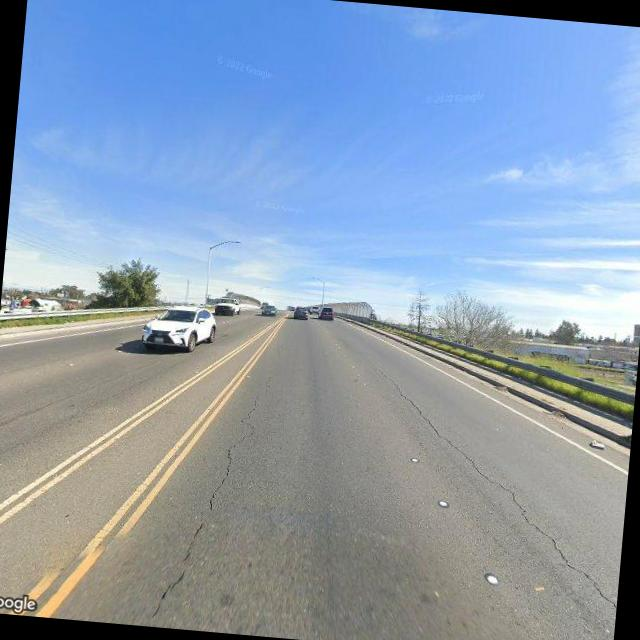pothole: (358, 370, 634, 636), (206, 383, 263, 511), (148, 514, 208, 620)
